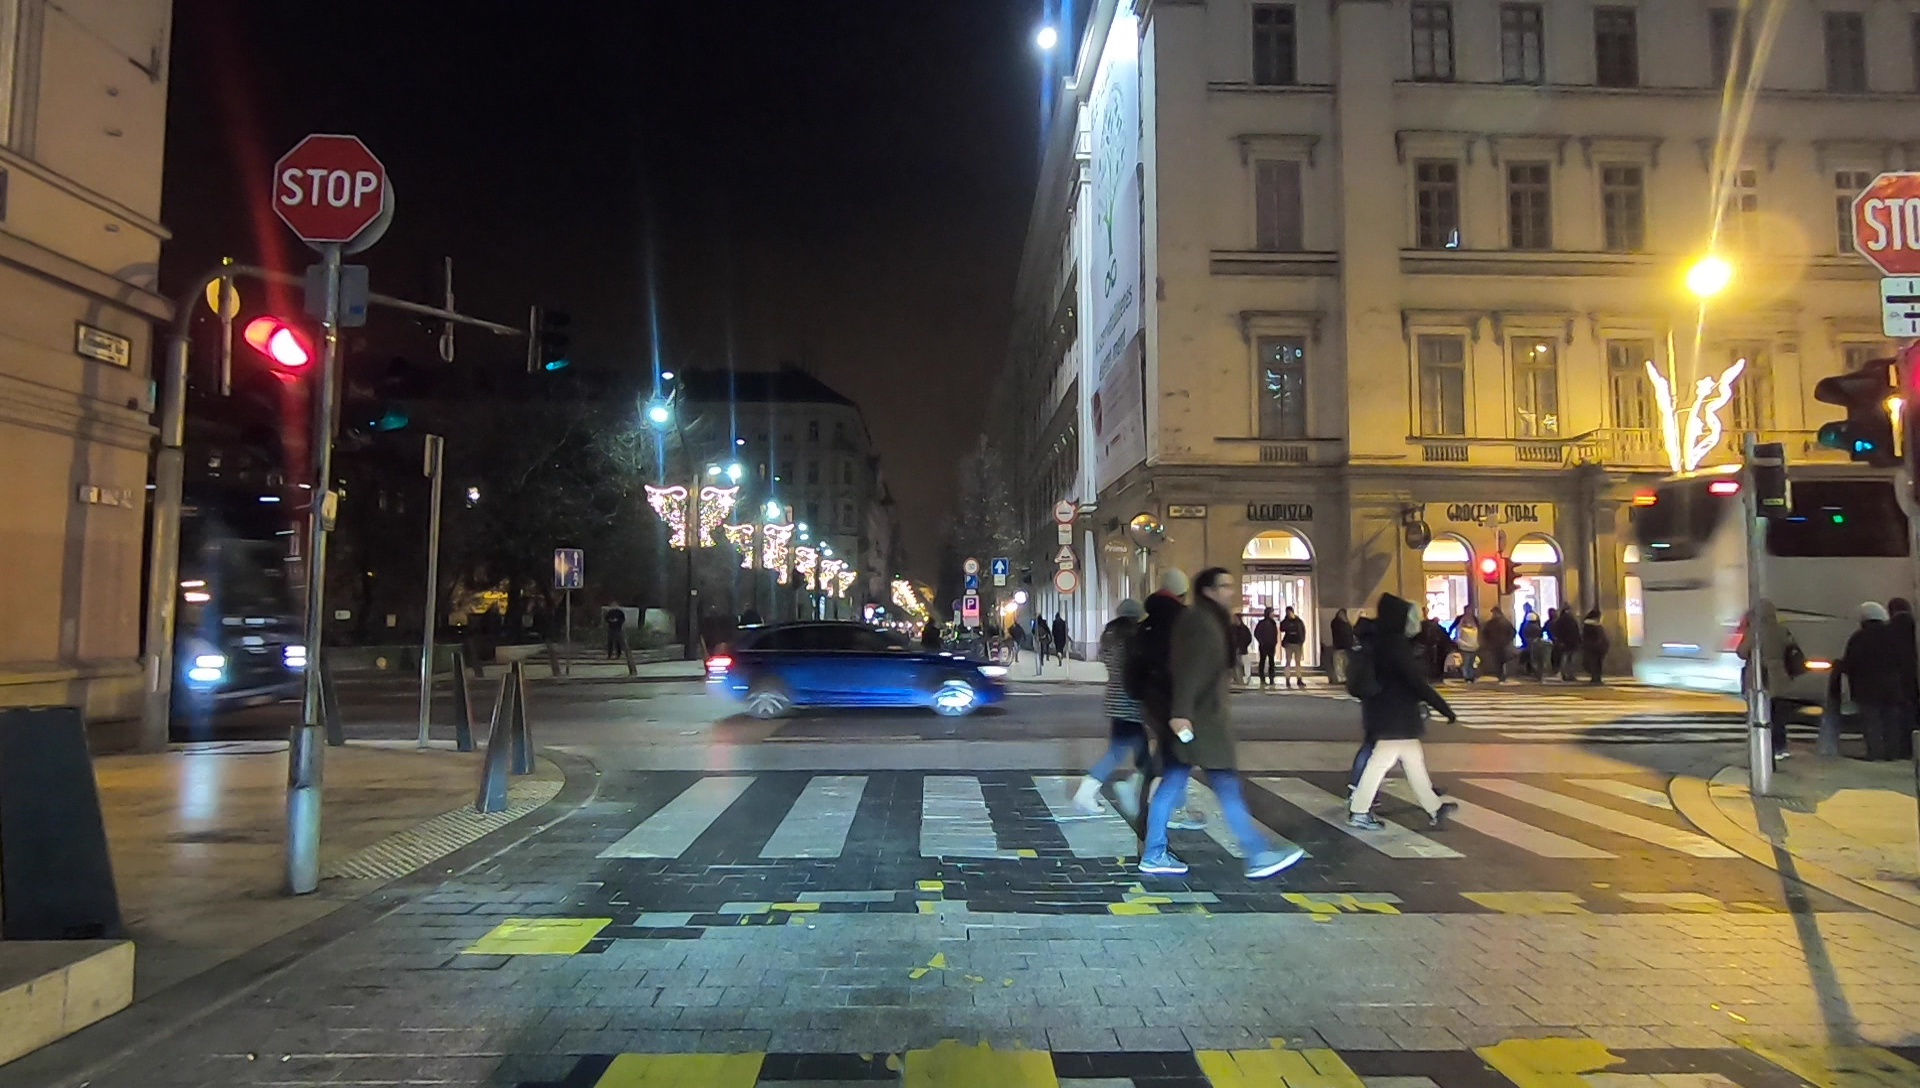person: (1152, 567, 1301, 874), (1339, 597, 1458, 830), (1093, 604, 1189, 832), (1847, 600, 1895, 767), (1486, 608, 1519, 676), (1519, 606, 1543, 671), (1558, 610, 1580, 676), (1454, 608, 1478, 667), (1282, 606, 1304, 669), (1588, 611, 1608, 674), (1260, 613, 1276, 674)
